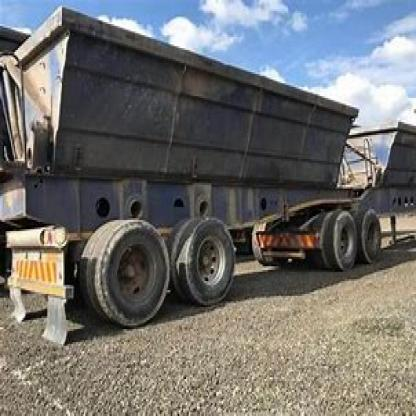dump_truck: (9, 19, 414, 336)
